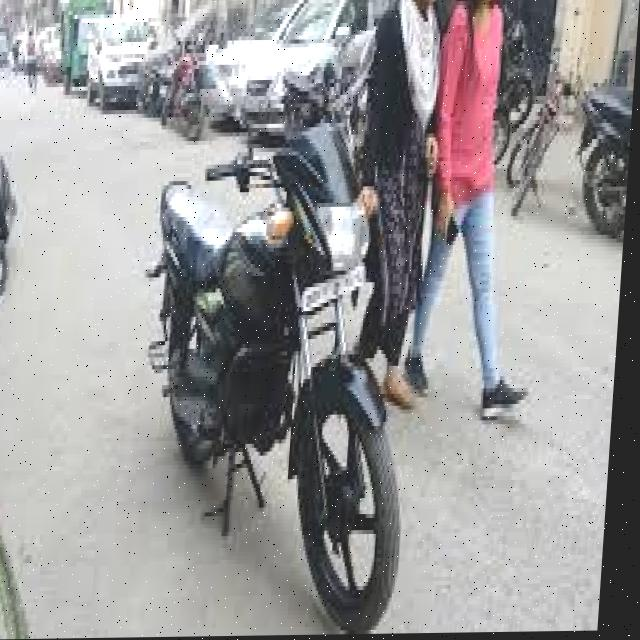bike: (139, 99, 417, 626)
